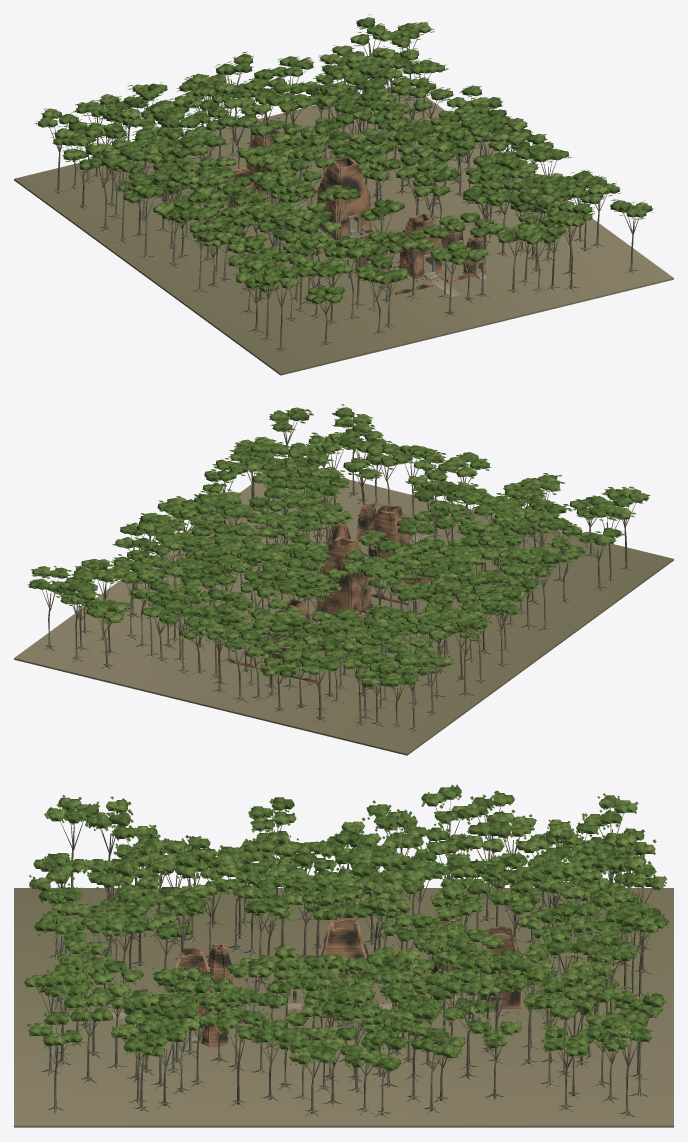
File: sambor-prei-kuk-normal.glb
The picture shows the model from 3 angles, top to bottom: view 1: azimuth 30°, elevation 25°; view 2: azimuth 150°, elevation 25°; view 3: azimuth 270°, elevation 25°; orthographic projection. The views are drawn at different scales.
Parts seen in each view (by area): view 1: Batched Viewer Forest soil and moss, Batched Viewer Leaf greens 0, Batched Viewer Leaf greens 2, Batched Viewer Leaf greens 1, Batched Viewer Tree bark, Batched Viewer Fired brick weathering 0, Batched Viewer Fired brick weathering 1, Batched Viewer Fired brick weathering 2, Batched Viewer Weathered sandstone; view 2: Batched Viewer Forest soil and moss, Batched Viewer Leaf greens 0, Batched Viewer Leaf greens 2, Batched Viewer Leaf greens 1, Batched Viewer Tree bark, Batched Viewer Fired brick weathering 0, Batched Viewer Fired brick weathering 1, Batched Viewer Fired brick weathering 2; view 3: Batched Viewer Forest soil and moss, Batched Viewer Leaf greens 1, Batched Viewer Leaf greens 0, Batched Viewer Leaf greens 2, Batched Viewer Tree bark, Batched Viewer Fired brick weathering 0, Batched Viewer Fired brick weathering 1, Batched Viewer Fired brick weathering 2.
Boxes of the visible parts, x1,y1,x2,y2 form: Batched Viewer Forest soil and moss: (14,85,673,375); Batched Viewer Leaf greens 0: (51,14,634,307); Batched Viewer Leaf greens 2: (51,21,653,294); Batched Viewer Leaf greens 1: (35,23,646,303); Batched Viewer Tree bark: (50,33,639,353); Batched Viewer Fired brick weathering 0: (230,135,486,295); Batched Viewer Fired brick weathering 1: (230,132,485,281); Batched Viewer Fired brick weathering 2: (231,129,482,282); Batched Viewer Weathered sandstone: (249,171,487,279); Batched Viewer Forest soil and moss: (14,467,673,755); Batched Viewer Leaf greens 0: (27,404,633,689); Batched Viewer Leaf greens 2: (30,410,641,689); Batched Viewer Leaf greens 1: (50,407,650,682); Batched Viewer Tree bark: (42,420,635,733); Batched Viewer Fired brick weathering 0: (228,504,439,682); Batched Viewer Fired brick weathering 1: (260,504,432,668); Batched Viewer Fired brick weathering 2: (262,503,431,664); Batched Viewer Forest soil and moss: (14,888,673,1127); Batched Viewer Leaf greens 1: (27,790,662,1070); Batched Viewer Leaf greens 0: (33,784,667,1072); Batched Viewer Leaf greens 2: (24,802,669,1068); Batched Viewer Tree bark: (39,800,652,1118); Batched Viewer Fired brick weathering 0: (141,918,550,1046); Batched Viewer Fired brick weathering 1: (140,918,524,1045); Batched Viewer Fired brick weathering 2: (176,919,528,1044).
Size of the model in its own units: 64.34 by 13.11 by 74.
